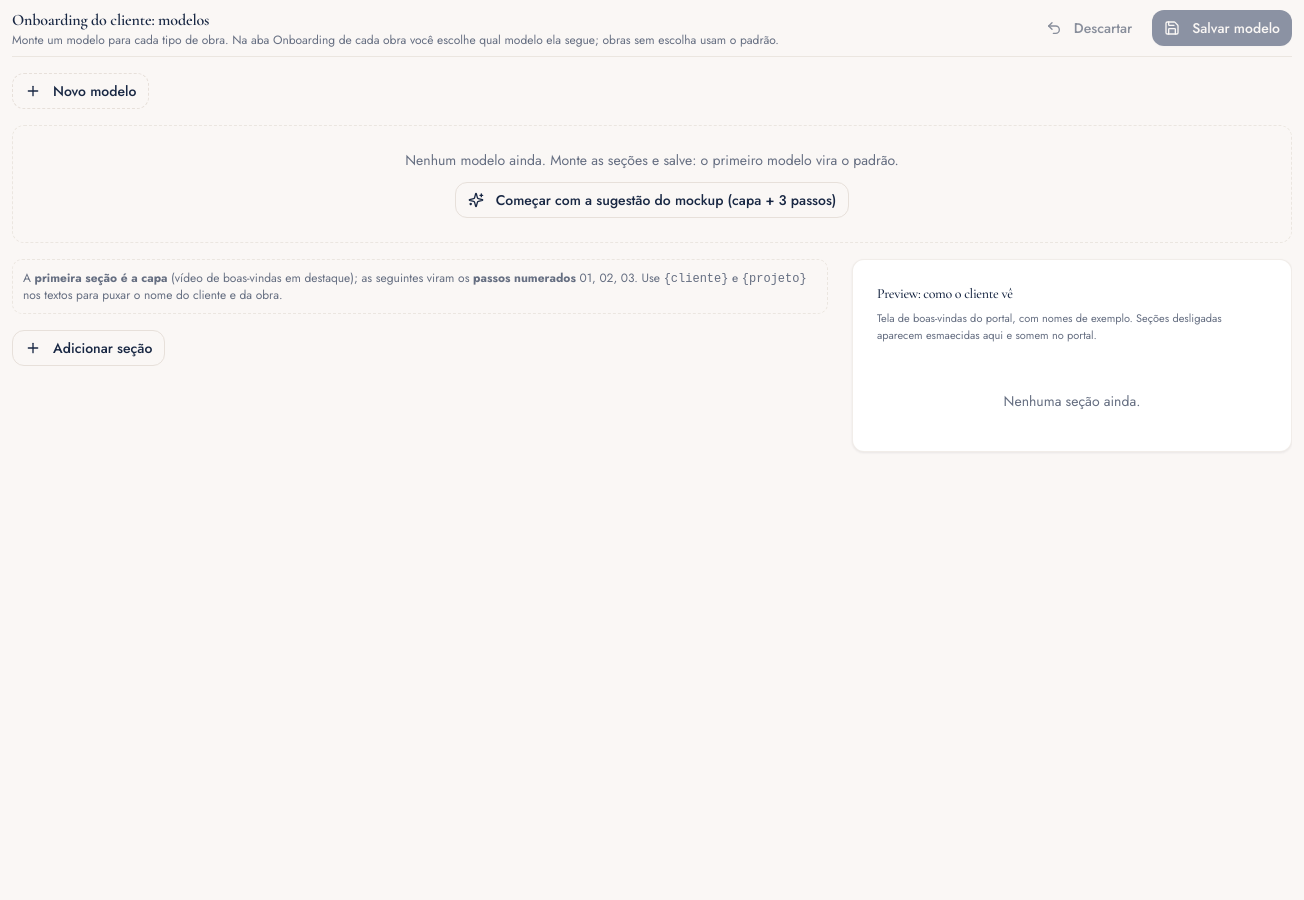
Configurações → Onboarding (modelos) › sem nenhum modelo, oferece a sugestão e salvar cria o primeiro
Later steps or results of the test are not shown.
What coordinates should you click on to do the following:
click the button "Começar com a sugestão do mockup (capa + 3 passos)"
I would click on:
 (652, 200)
Its box is [455, 182, 849, 218].
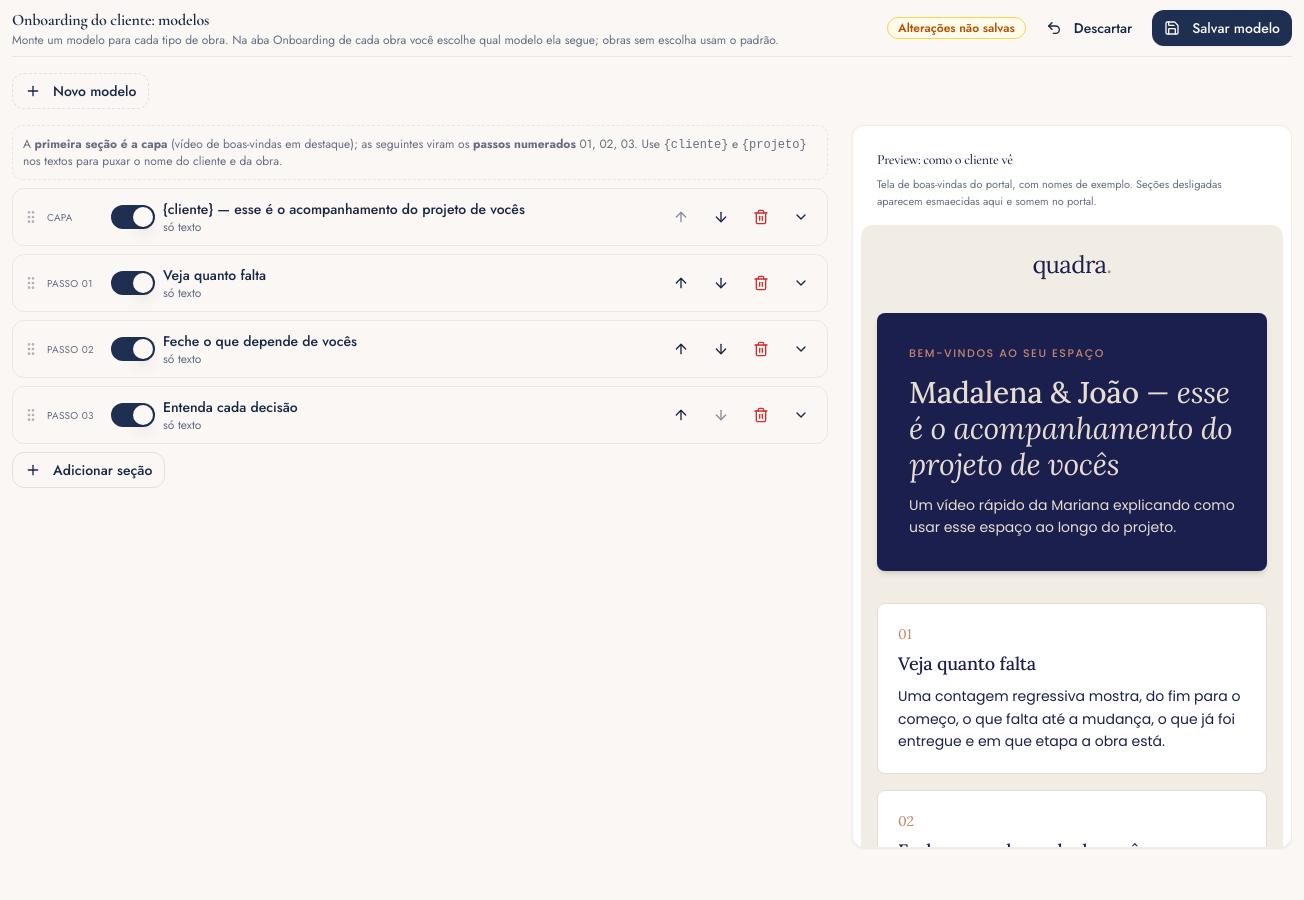
expect the text "Alterações não salvas" is shown: met, box [887, 17, 1026, 39]
